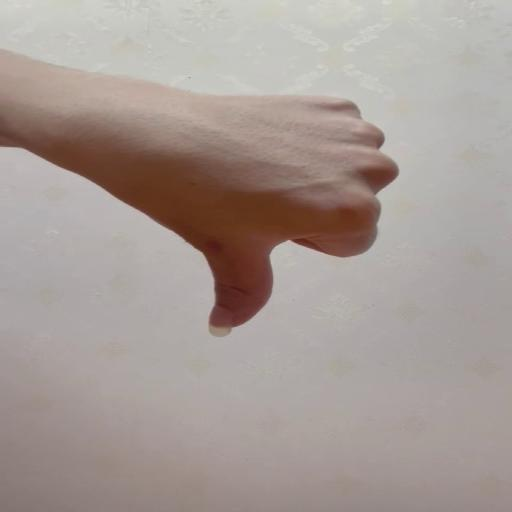thumbs_down: (110, 89, 406, 336)
